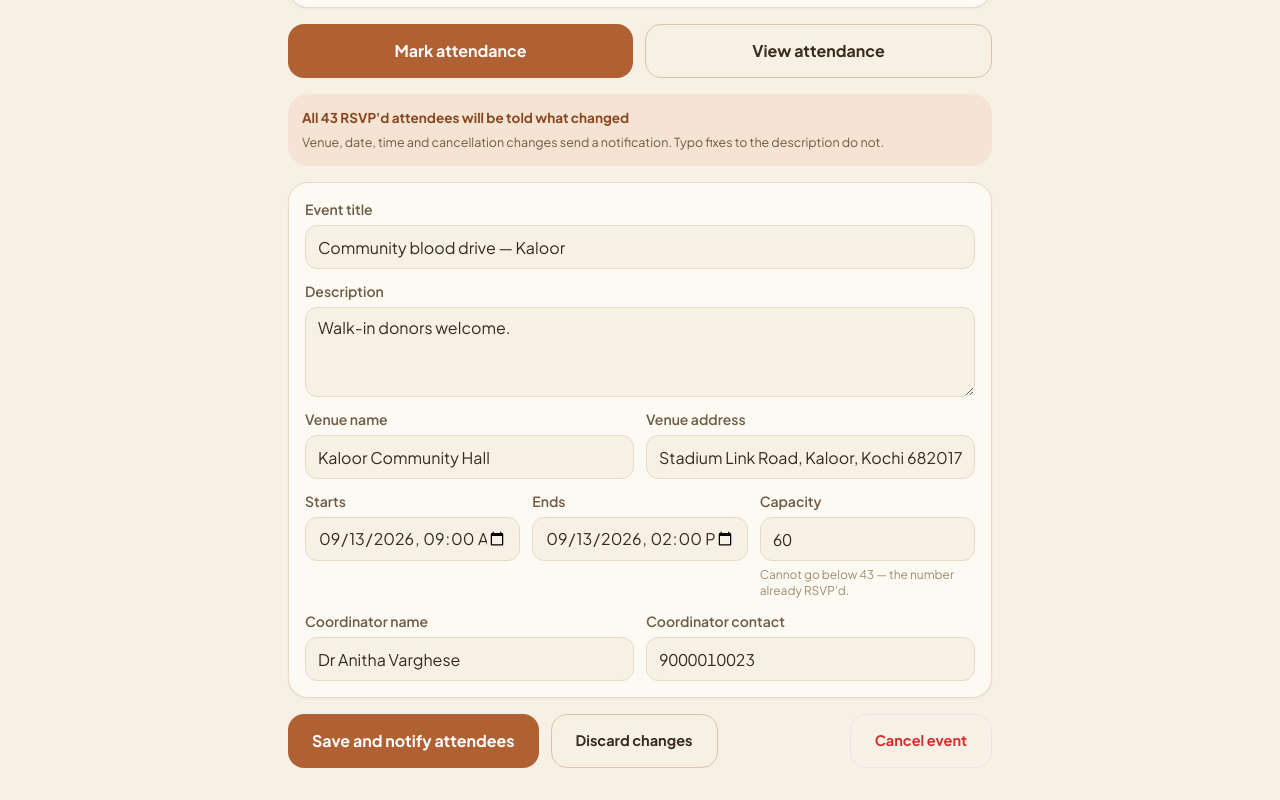
EventManagePage › opens the cancel modal and cancels with a valid reason
(page scrolled)
Expected: the field showing "Community blood drive — Kaloor" is shown, [305,225,975,269]
Click the button "Cancel event" at (921, 741), box [850,714,992,768]
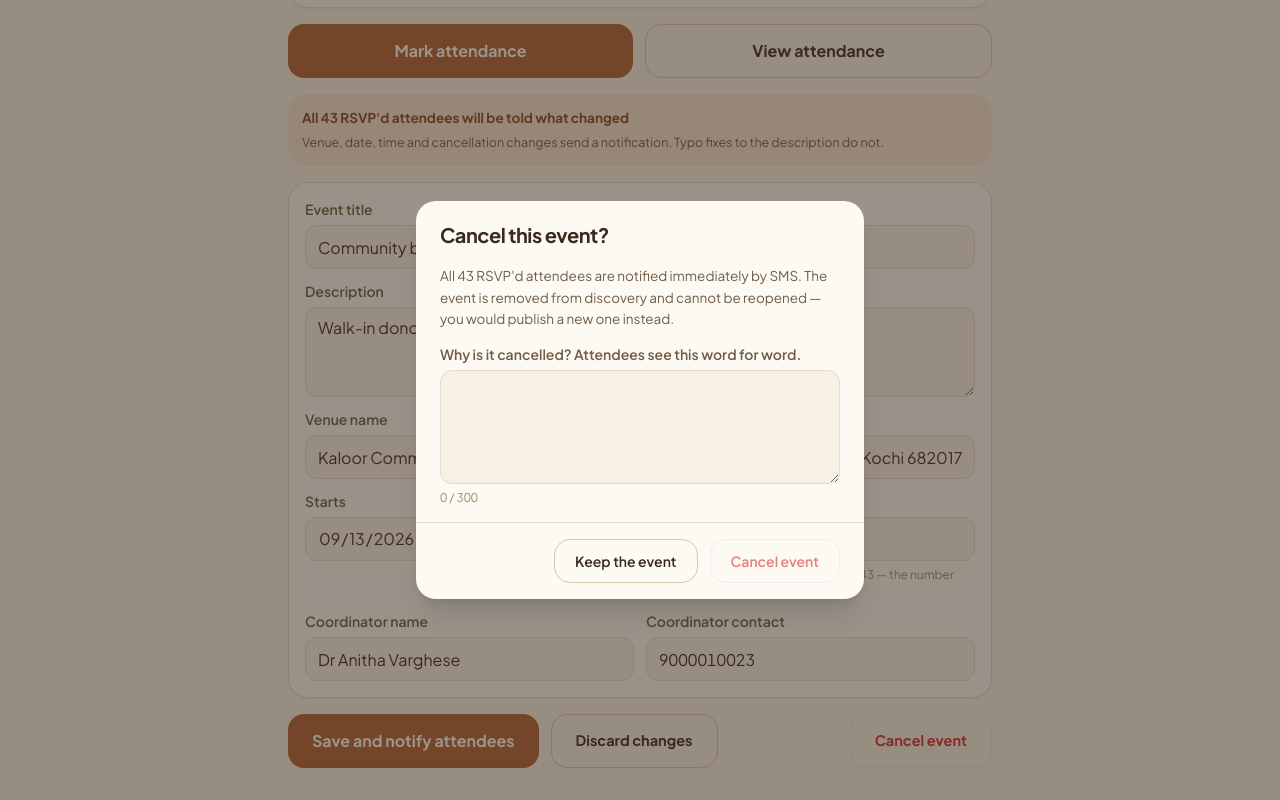
Now the heading "Cancel this event?" is shown, box [440,222,609,247]
Now the button "Cancel event" is disabled, box [710,539,840,583]
Type "The hall is unavailable after storm damage." into the text box labelled "Why is it cancelled" at (640, 427), box [440,370,840,484]
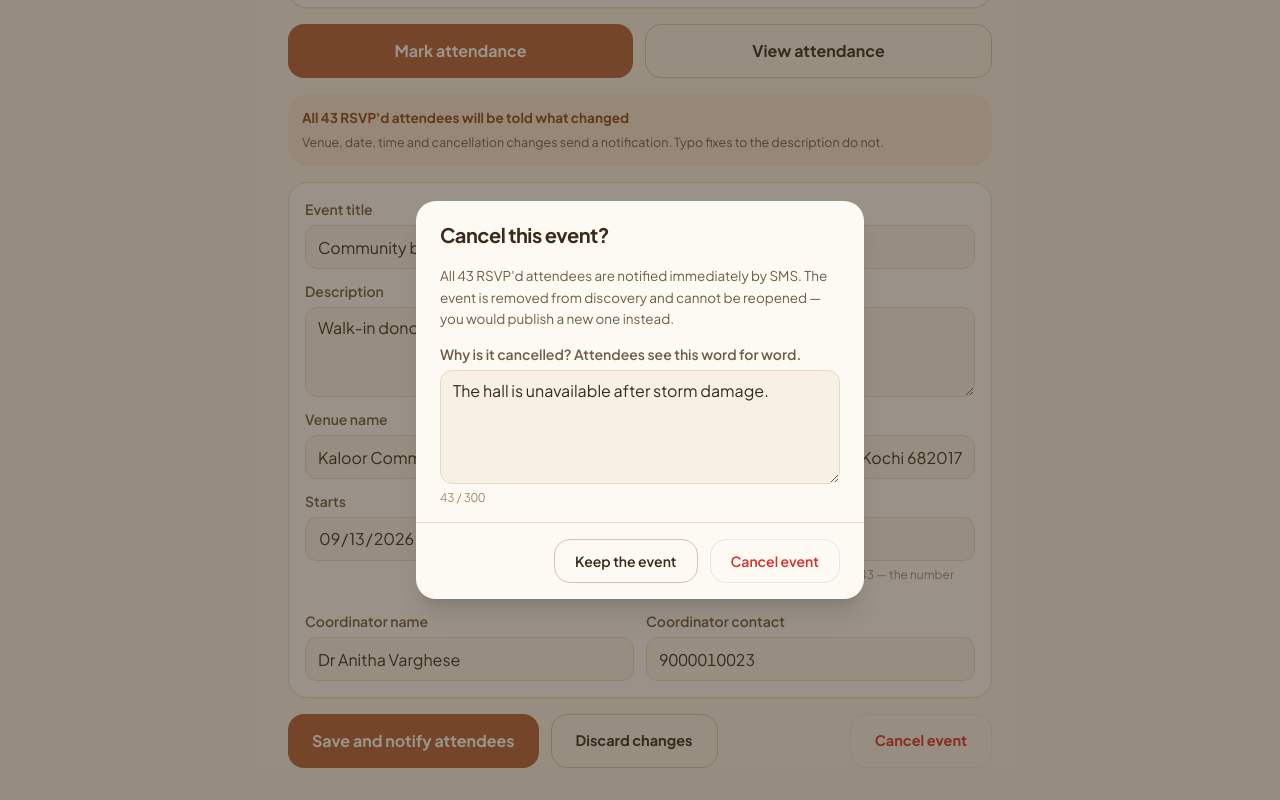
Now the button "Cancel event" is enabled
Click the button "Cancel event" at (775, 561), box [710,539,840,583]
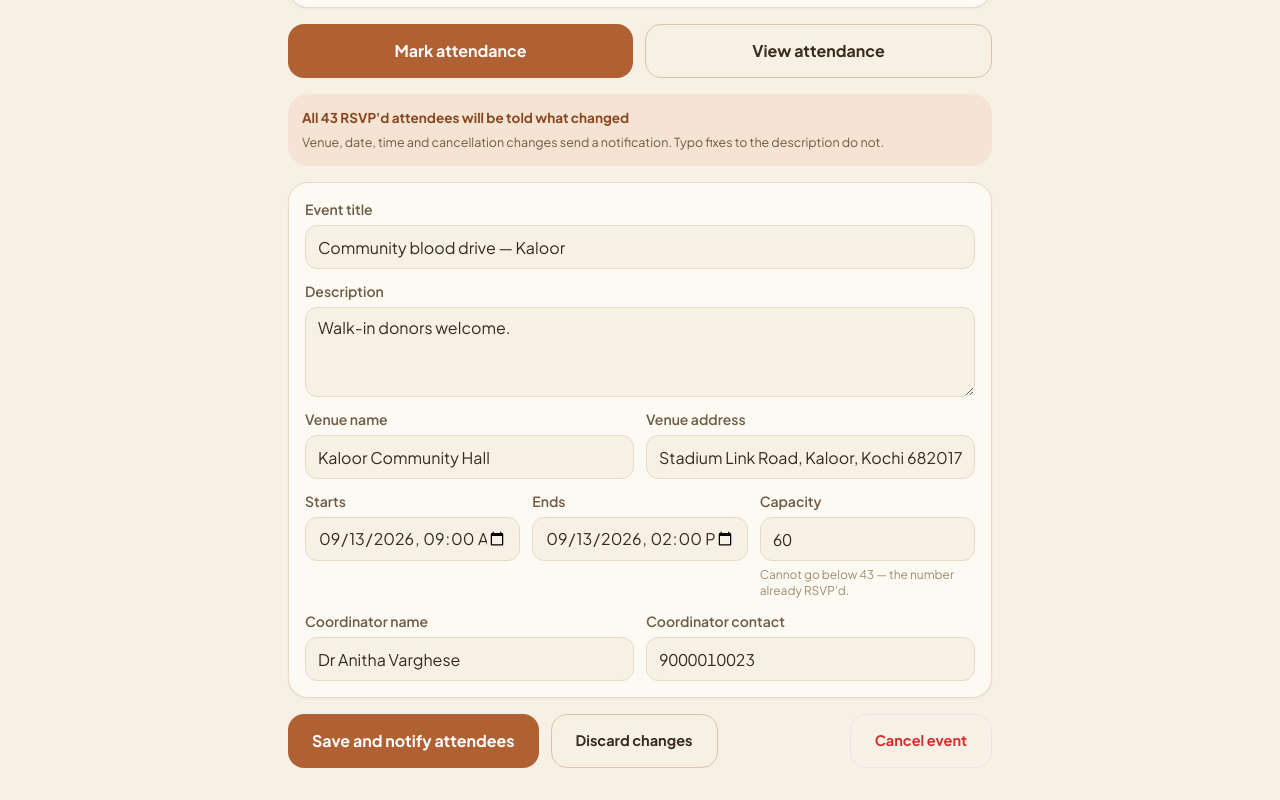
Now the heading "Cancel this event?" is gone
